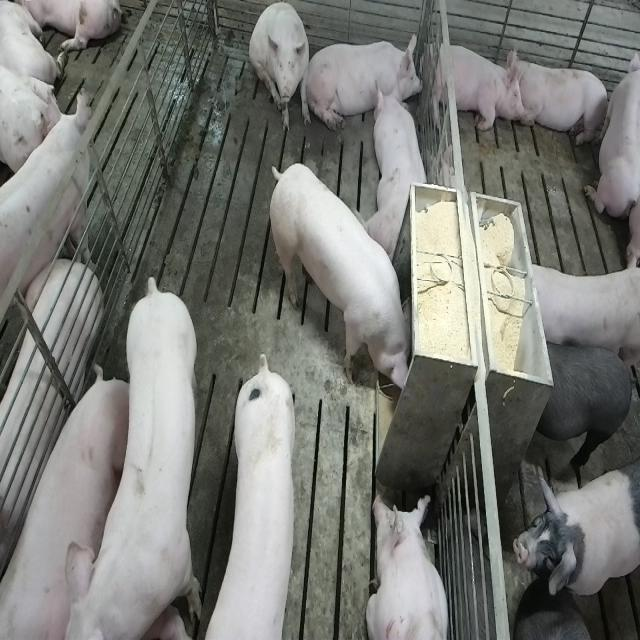Feeding: (265, 161, 411, 394)
Lateral_lying: (0, 258, 101, 596), (0, 370, 126, 640)
Sitting: (250, 2, 312, 134)
Standing: (67, 274, 206, 636), (210, 358, 300, 640), (0, 92, 91, 332), (512, 467, 638, 603), (528, 338, 636, 478), (521, 256, 637, 370), (512, 609, 605, 640)
Sternal_lying: (365, 490, 450, 640), (369, 81, 432, 263), (311, 32, 421, 131), (584, 36, 637, 222), (510, 52, 611, 149), (426, 37, 524, 136)
